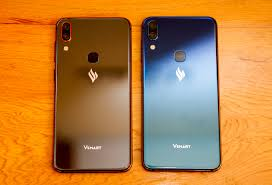vsmart: (59, 12, 140, 176), (140, 12, 220, 175)
